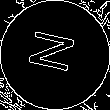N_E: (26, 30, 84, 80)
